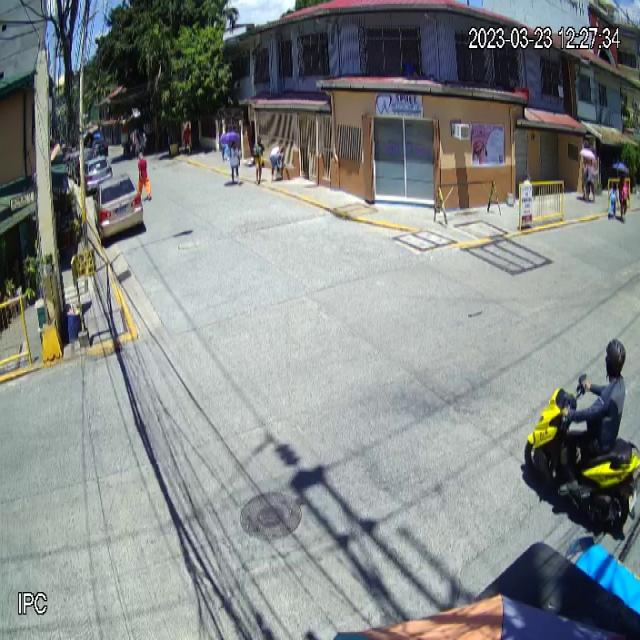Motorcycle: (524, 374, 640, 532)
